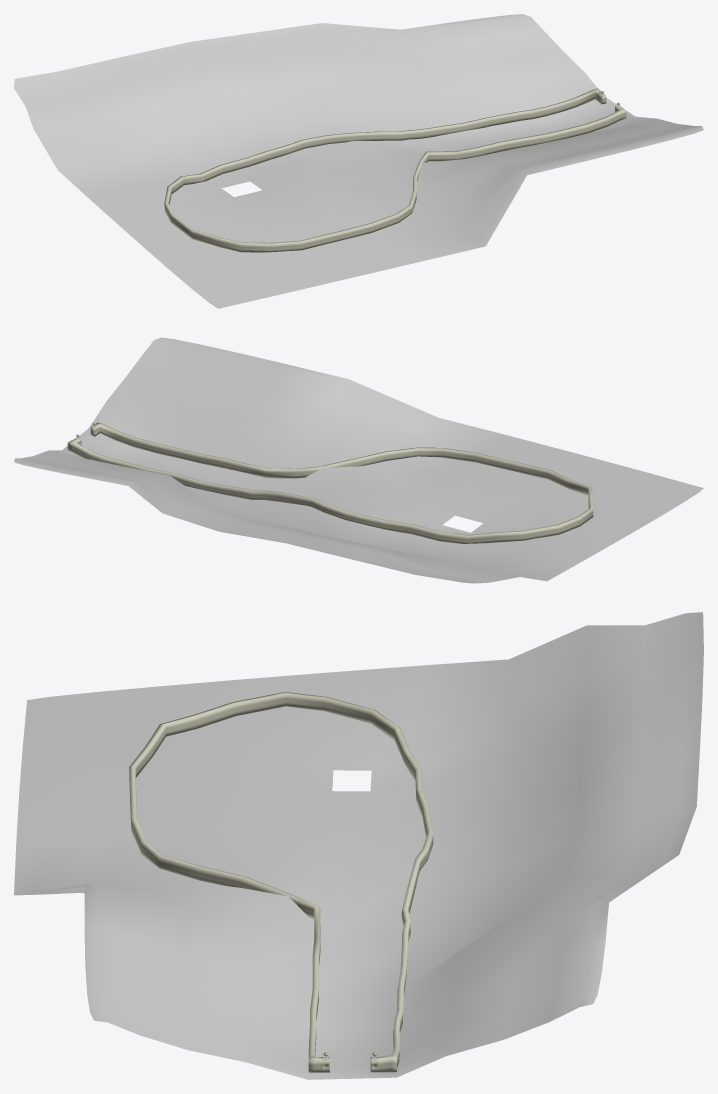
File: Garden.fbx
The picture shows the model from 3 angles, top to bottom: view 1: azimuth 30°, elevation 25°; view 2: azimuth 150°, elevation 25°; view 3: azimuth 270°, elevation 25°; orthographic projection. The views are drawn at different scales.
Parts seen in each view (by area): view 1: Mesh; view 2: Mesh; view 3: Mesh.
Part boxes in pixels (x1,y1,x2,y2): Mesh: (14,14,703,308); Mesh: (14,337,703,583); Mesh: (14,612,703,1079).
Size of the model in its own units: 226 by 29.19 by 170.
